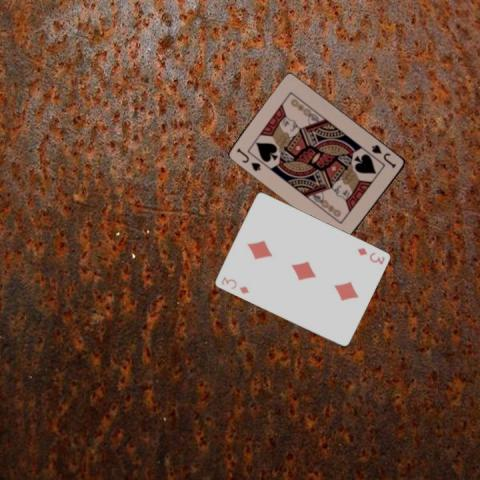3d: (218, 274, 251, 295), (354, 245, 386, 266)
Js: (369, 141, 398, 170), (233, 144, 263, 172)
